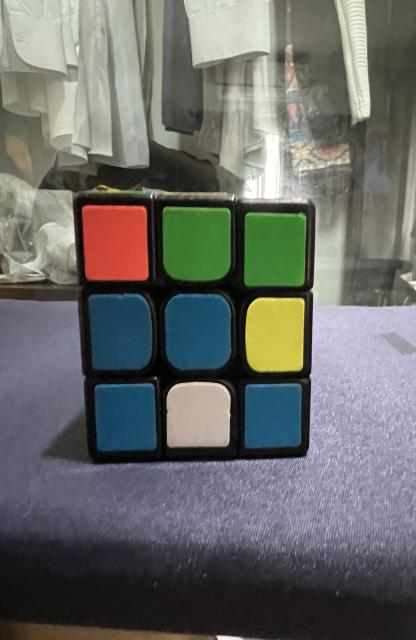Blue: (165, 294, 231, 370), (88, 294, 153, 370), (94, 384, 157, 451), (245, 384, 301, 449)
Green: (162, 206, 231, 281), (244, 212, 307, 286)
Orange: (82, 205, 148, 281)
White: (167, 381, 231, 448)
Yellow: (245, 298, 304, 372)
